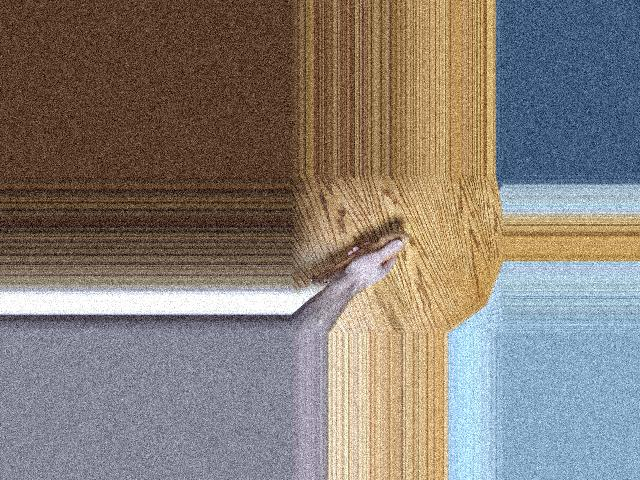sweet_potato: (309, 233, 404, 288)
